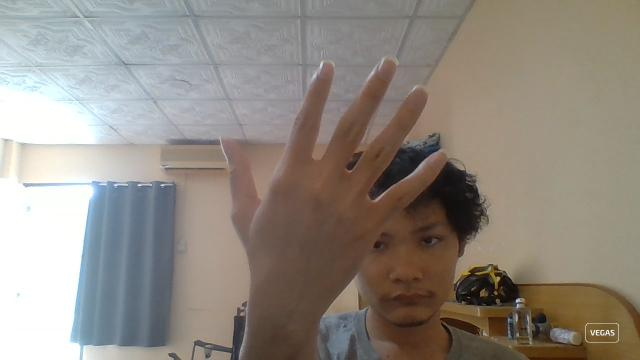backword: (225, 55, 448, 357)
